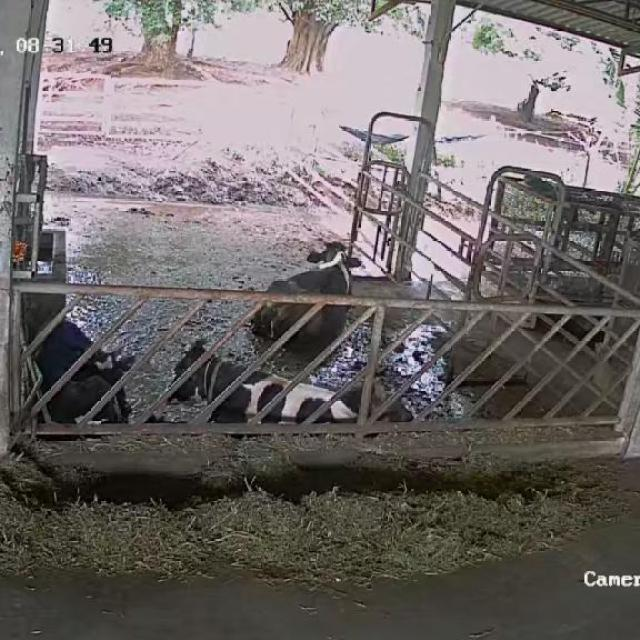lying down: (167, 335, 360, 435), (13, 313, 143, 425), (246, 236, 362, 348)
